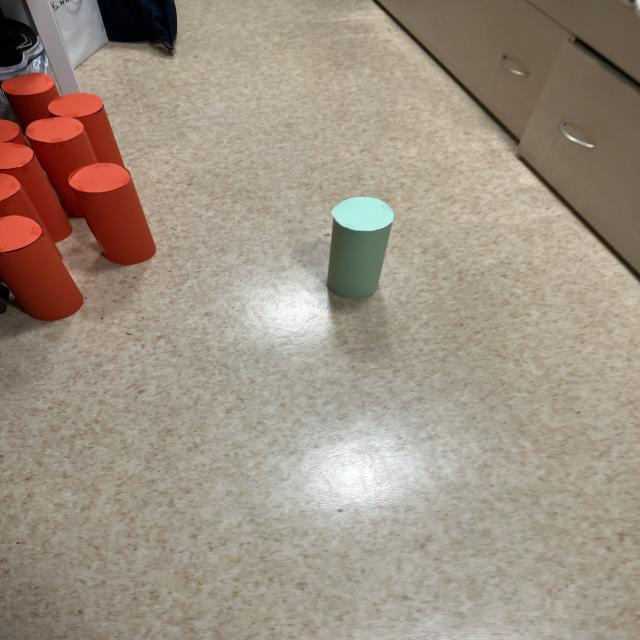meta: (327, 197, 393, 299)
